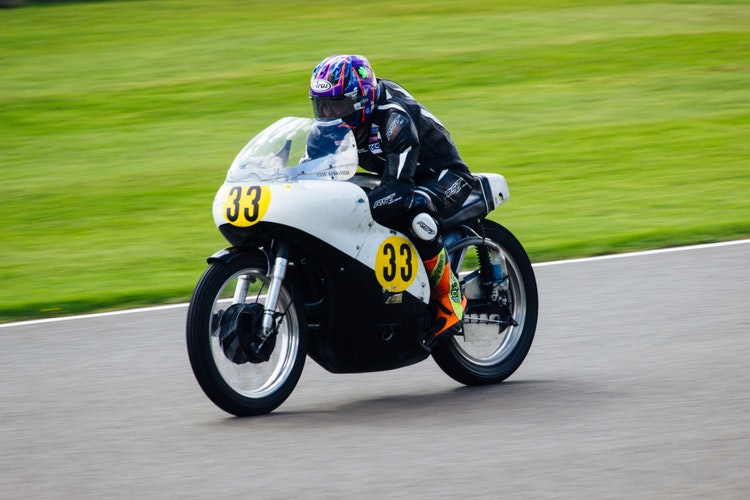helmet: (301, 49, 388, 125)
